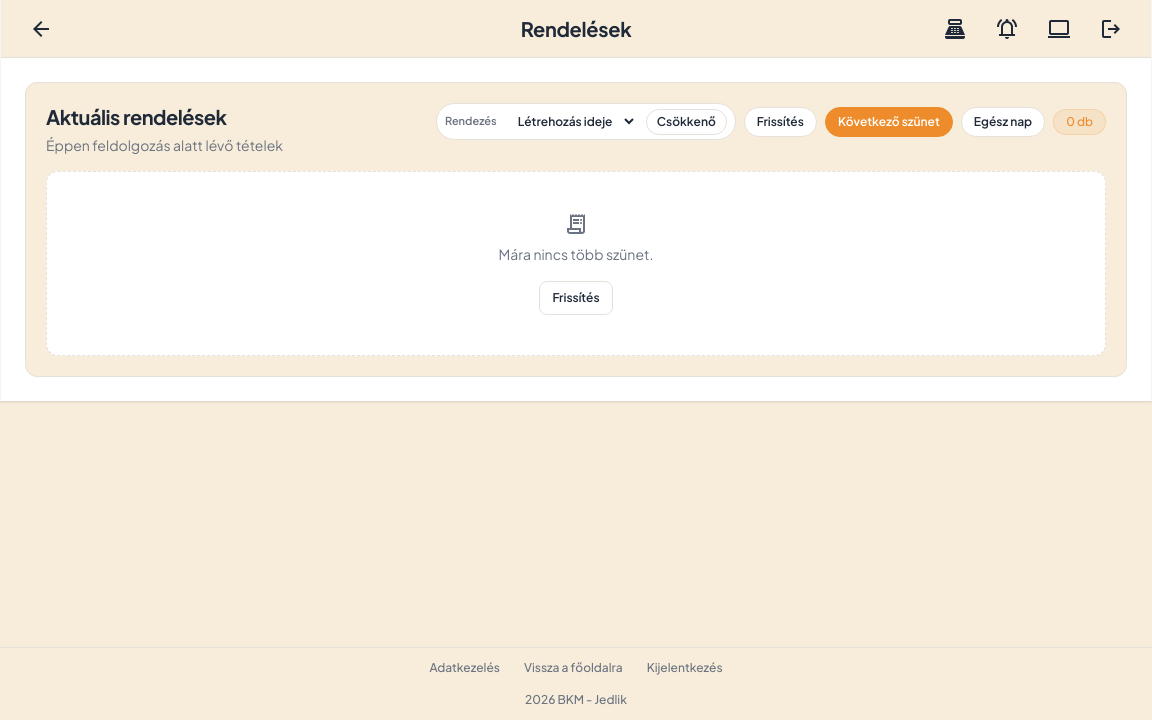
Test: admin orders page › shows whole-day empty state when there are no active orders
Click the button "Egész nap" at (1003, 122), box [961,107,1045,137]
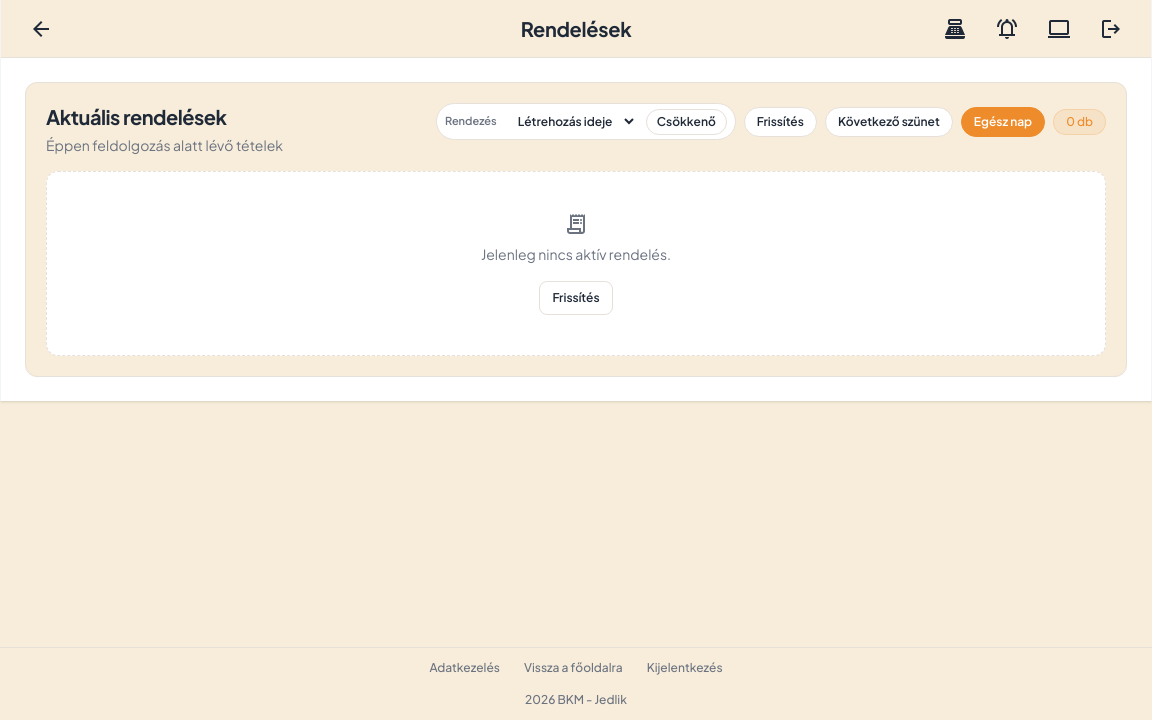
Expected: the text "Jelenleg nincs aktív rendelés." is shown, [481,244,671,265]
